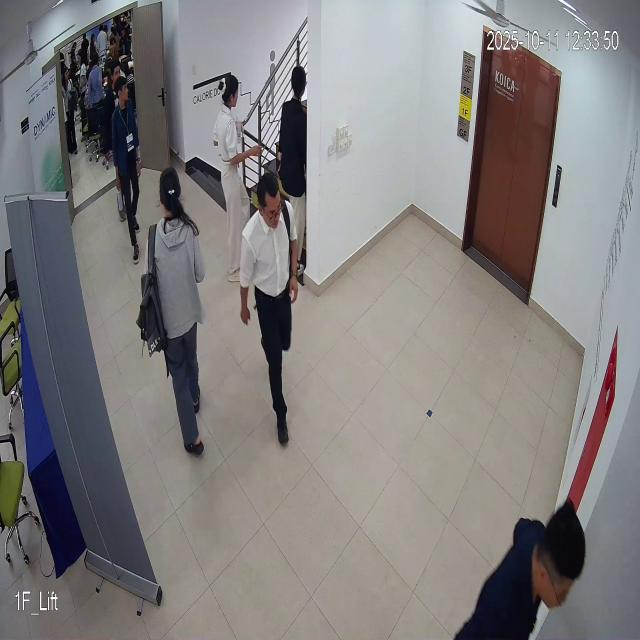face: (255, 170, 288, 234)
